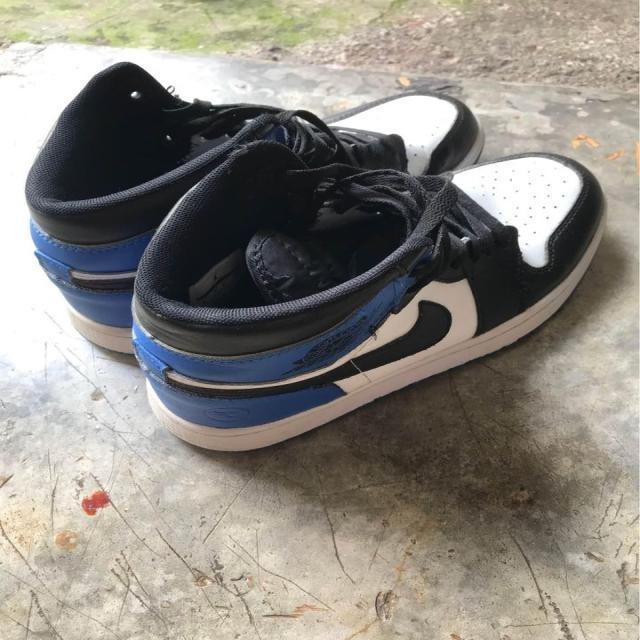nike fake jordan 1: (124, 138, 612, 457), (24, 58, 489, 360)
